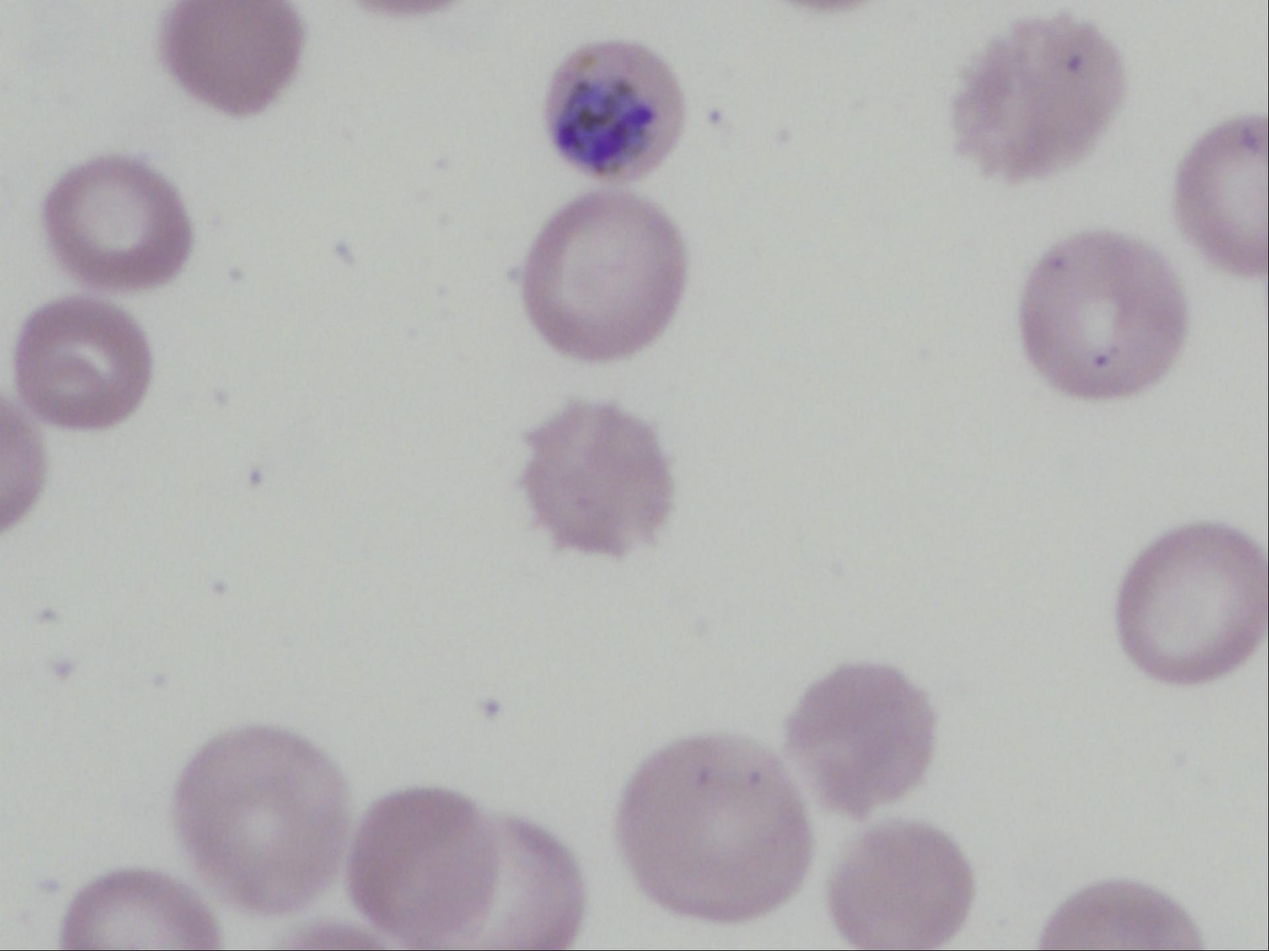Infected: (542, 36, 683, 184)
Uninfected: (612, 723, 805, 921), (172, 721, 355, 908), (945, 14, 1118, 192), (1016, 228, 1190, 401), (520, 395, 676, 568), (531, 190, 686, 359), (1115, 523, 1269, 689), (346, 785, 495, 951), (795, 657, 937, 818), (401, 825, 570, 951), (40, 155, 185, 298), (828, 820, 965, 951), (18, 300, 154, 431), (156, 0, 307, 111), (1172, 111, 1269, 276), (59, 866, 214, 951)
